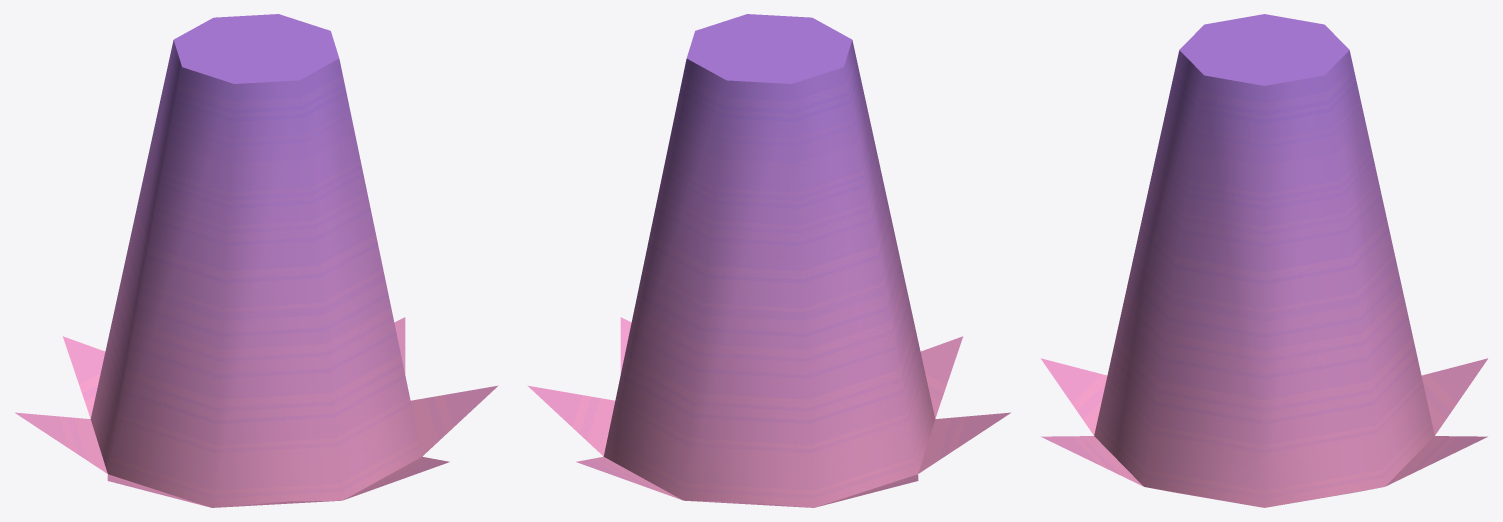
File: tower-defense-kit--enemy-ufo-beam-burst.glb
3 views of the same model, side by side, from view 1: azimuth 30°, elevation 25°; view 2: azimuth 150°, elevation 25°; view 3: azimuth 270°, elevation 25° (orthographic).
Parts seen in each view (by area): view 1: enemy-ufo-beam-burst; view 2: enemy-ufo-beam-burst; view 3: enemy-ufo-beam-burst.
Part boxes in pixels (x1=…): enemy-ufo-beam-burst: x1=15, y1=14, x2=498, y2=507; enemy-ufo-beam-burst: x1=527, y1=14, x2=1010, y2=507; enemy-ufo-beam-burst: x1=1041, y1=14, x2=1487, y2=507.
Bounding box in the file's own units: 1.05 × 1 × 1.05.
1 material, 1 textured.
